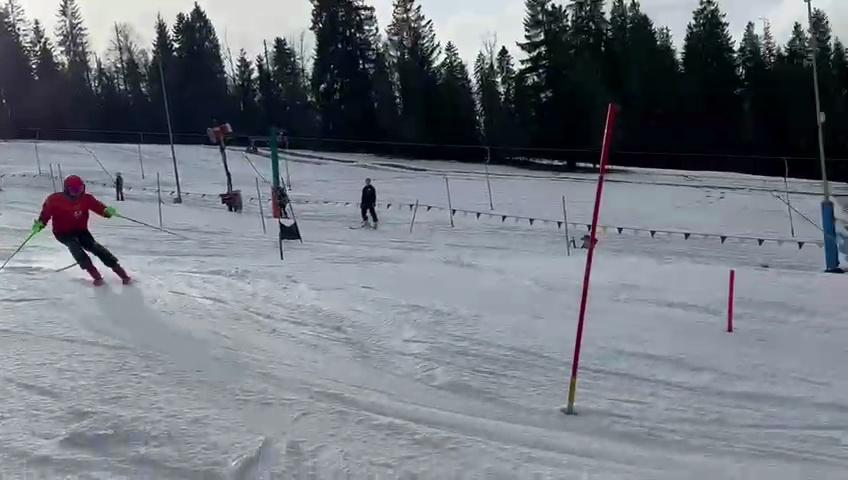gate: (516, 79, 646, 432), (710, 262, 742, 332)
